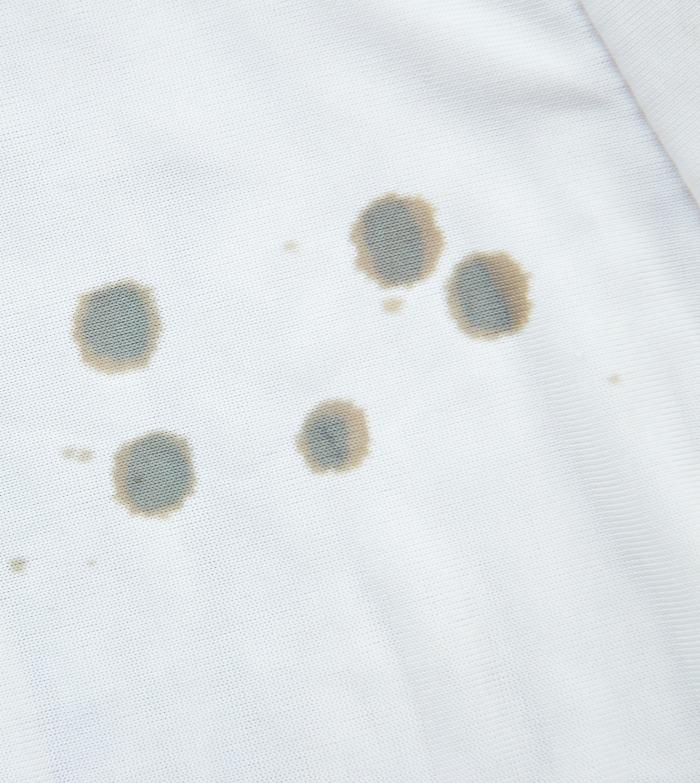gun: (444, 238, 545, 341), (60, 285, 159, 374), (353, 207, 446, 287), (108, 434, 205, 510), (285, 395, 372, 465), (60, 434, 96, 471), (376, 296, 407, 320), (13, 549, 38, 576), (285, 232, 300, 267)
